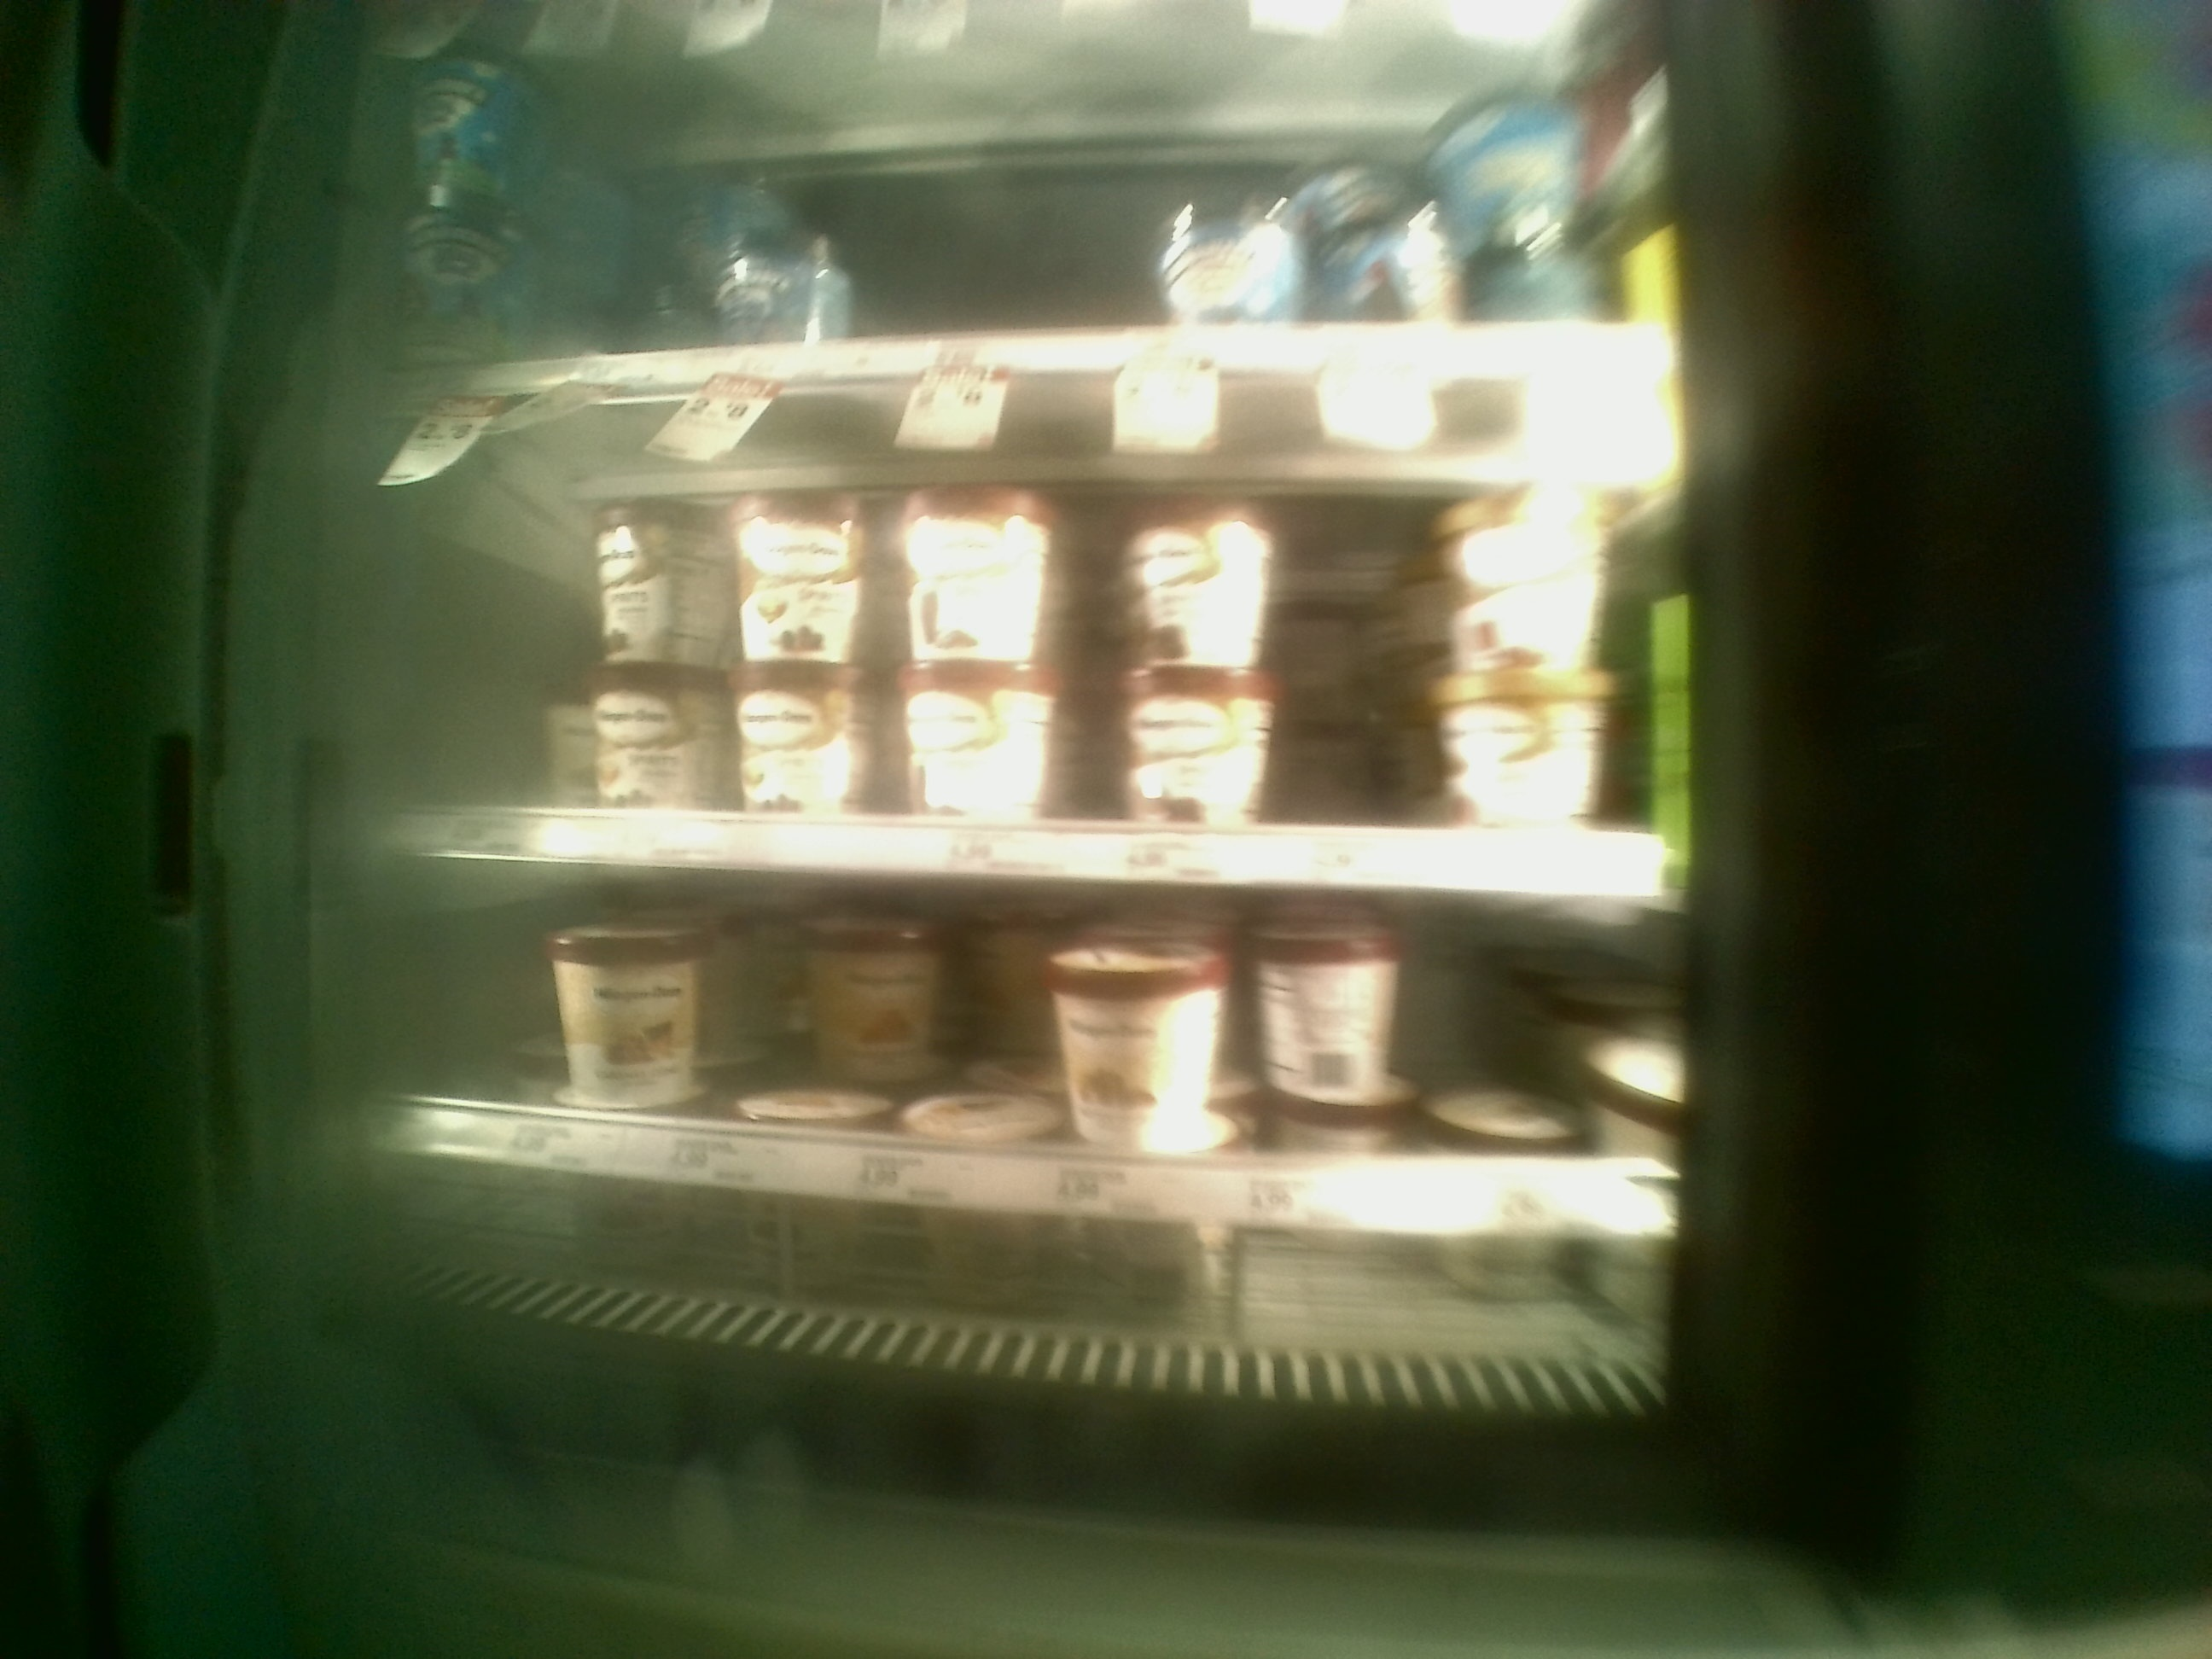shelf: (387, 380, 1681, 892), (401, 871, 1674, 1354)
